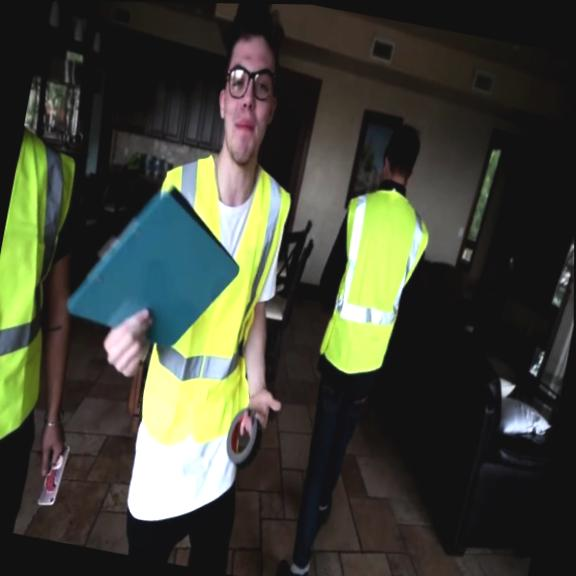safety_vest: (112, 147, 297, 459), (0, 125, 85, 491), (313, 181, 436, 384)
